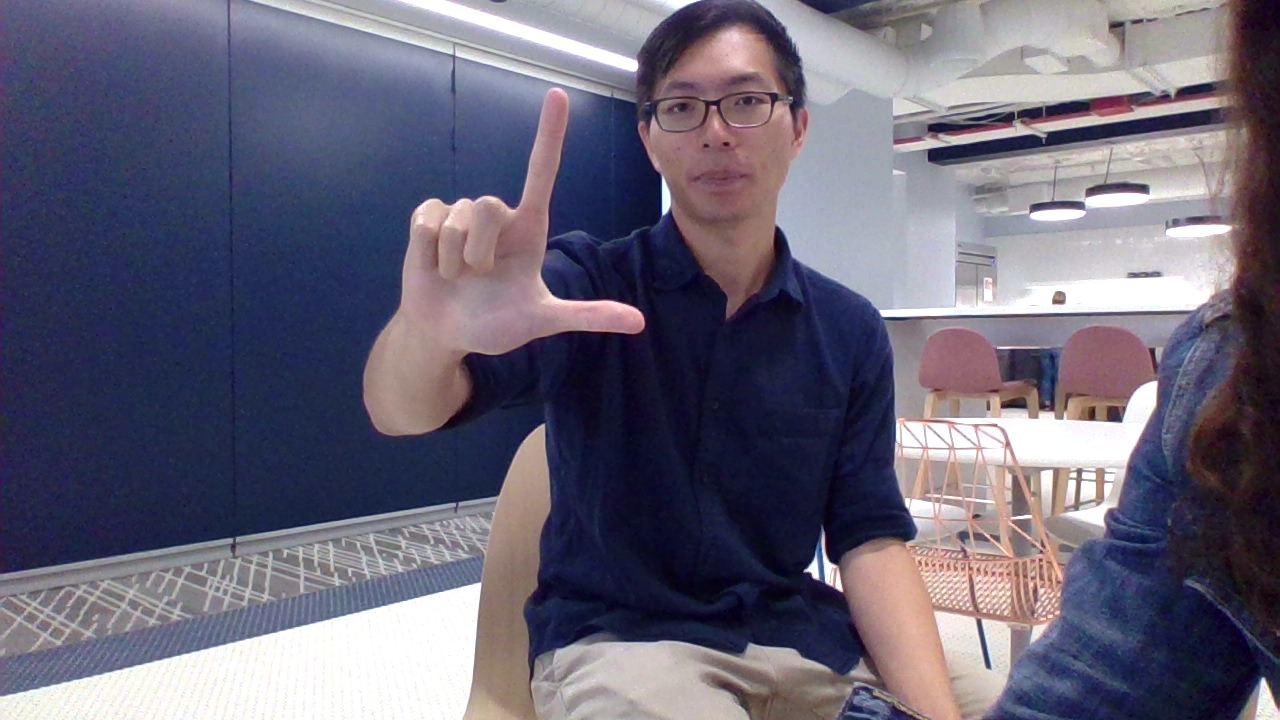l: (381, 79, 652, 369)
